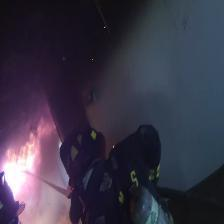fire: (0, 128, 37, 199)
